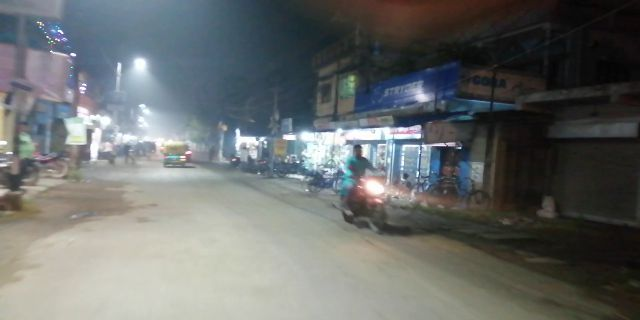Autorickshaw: (162, 142, 190, 166)
Motorbike: (334, 141, 390, 234)
